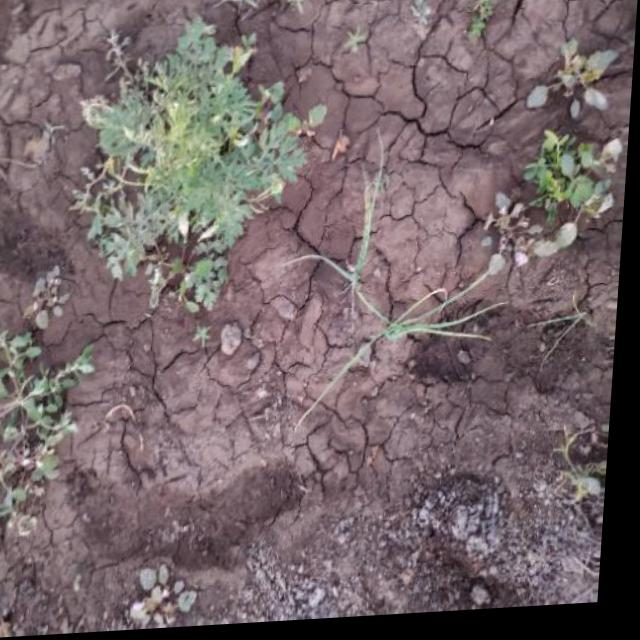weed: (53, 29, 311, 299), (0, 303, 94, 540), (498, 127, 623, 275)
